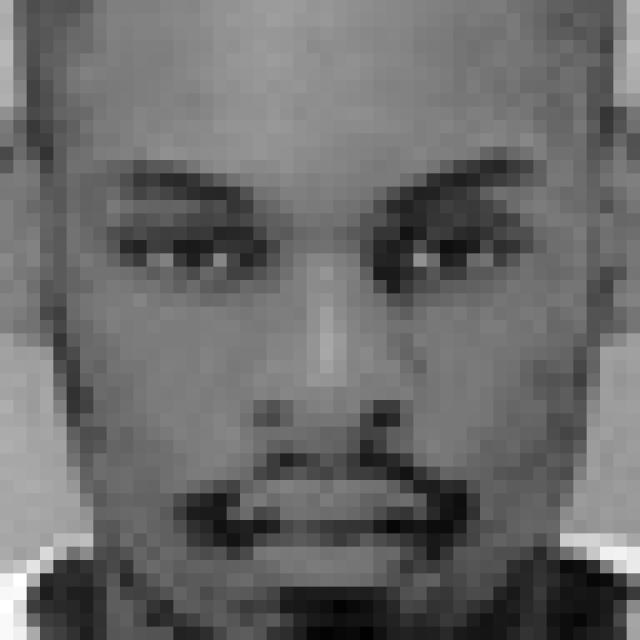neutral: (96, 134, 553, 604)
